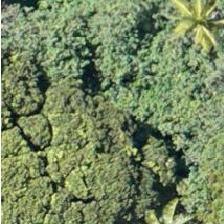Kelapa_Sawit: (151, 0, 224, 70)
